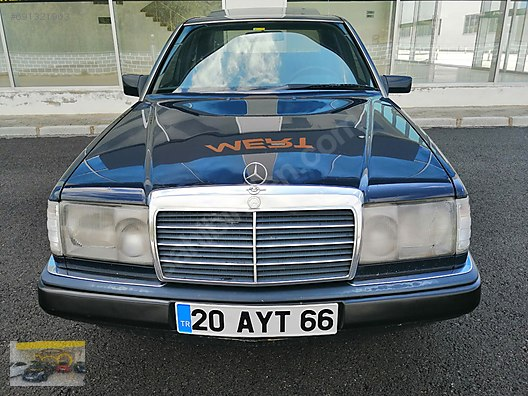mercedes: (35, 10, 489, 347)
